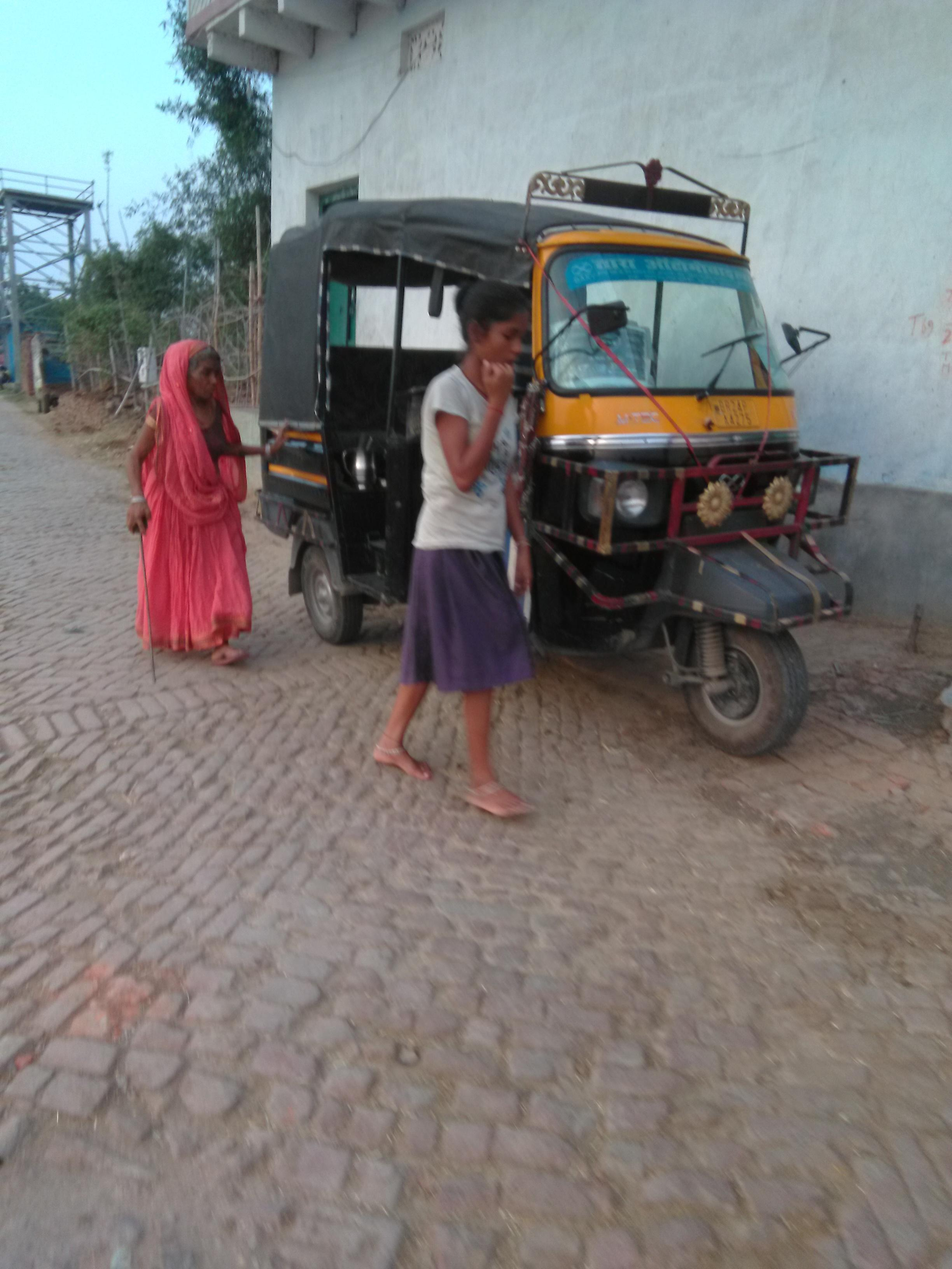Non-emergency: (196, 111, 929, 836)
